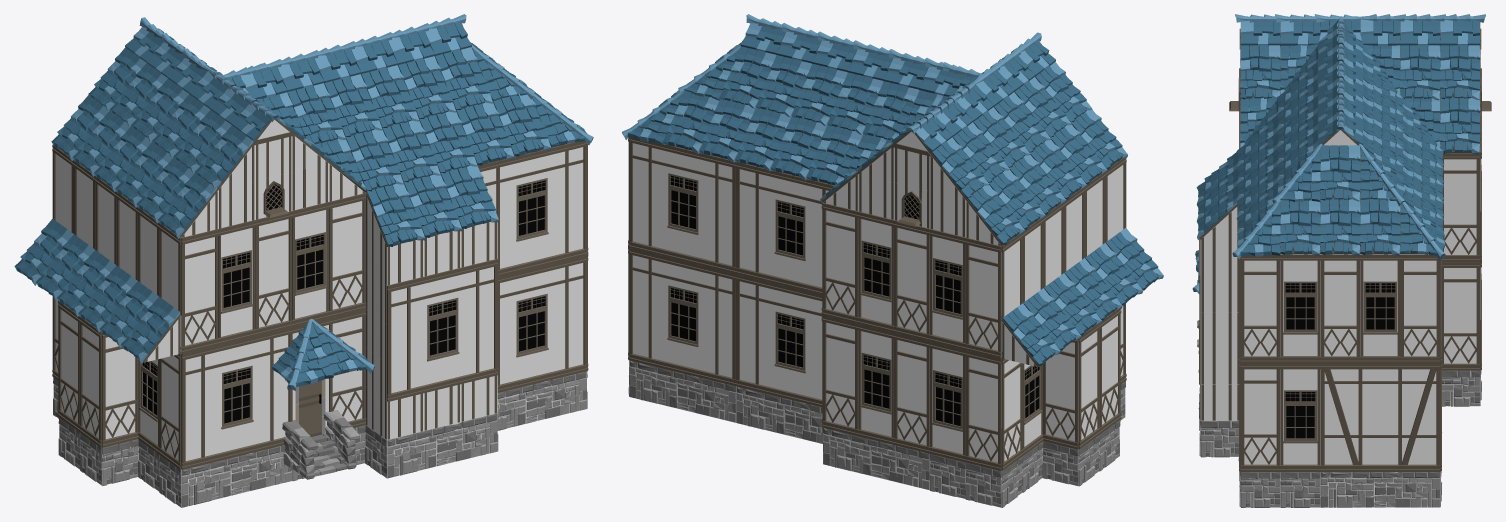
The model's file is House_19_full.glb.
The picture shows the model from 3 angles, left to right: view 1: azimuth 30°, elevation 25°; view 2: azimuth 150°, elevation 25°; view 3: azimuth 270°, elevation 25°; orthographic projection. The views are drawn at different scales.
Parts seen in each view (by area): view 1: WINDOW_03_9, WINDOW_03_2, WINDOW_03_8, WINDOW_03_7, WALL_01_23, WINDOW_04_13, WALL_01_22, FOUNDATION_02_31, WALL_01_21, WINDOW_04_12, FOUNDATION_02_25, WALL_01_4 (+89 smaller); view 2: WINDOW_03_4, WINDOW_03_5, WINDOW_03_6, WINDOW_03_3, WALL_01_14, WALL_01_12, WALL_01_9, WALL_01_11, WINDOW_04_8, WINDOW_04_7, WALL_01_10, WALL_01_13 (+76 smaller); view 3: WALL_02_2, WINDOW_04_9, WINDOW_04_10, WALL_01_18, WALL_01_19, WINDOW_04_11, WALL_01_20, WALL_01_17, FOUNDATION_02_27, WALL_01_15, WALL_01_16, ROOF_base_52 (+59 smaller).
Part boxes in pixels (left/top/right/bottom): WINDOW_03_9: left=386, top=258, right=498, bottom=401; WINDOW_03_2: left=181, top=327, right=292, bottom=469; WINDOW_03_8: left=478, top=141, right=587, bottom=276; WINDOW_03_7: left=497, top=255, right=587, bottom=392; WALL_01_23: left=181, top=229, right=219, bottom=354; WINDOW_04_13: left=218, top=220, right=255, bottom=345; WALL_01_22: left=255, top=211, right=292, bottom=335; FOUNDATION_02_31: left=387, top=413, right=497, bottom=478; WALL_01_21: left=329, top=193, right=366, bottom=317; WINDOW_04_12: left=292, top=202, right=329, bottom=327; FOUNDATION_02_25: left=181, top=445, right=291, bottom=507; WALL_01_4: left=102, top=333, right=138, bottom=447; WINDOW_03_4: left=628, top=248, right=735, bottom=385; WINDOW_03_5: left=628, top=137, right=735, bottom=273; WINDOW_03_6: left=735, top=161, right=834, bottom=294; WINDOW_03_3: left=735, top=274, right=822, bottom=407; WALL_01_14: left=965, top=237, right=1001, bottom=358; WALL_01_12: left=822, top=202, right=858, bottom=323; WALL_01_9: left=965, top=350, right=1001, bottom=470; WALL_01_11: left=822, top=315, right=858, bottom=435; WINDOW_04_8: left=929, top=229, right=965, bottom=349; WINDOW_04_7: left=858, top=211, right=893, bottom=332; WALL_01_10: left=893, top=333, right=929, bottom=453; WALL_01_13: left=893, top=220, right=929, bottom=341; WALL_02_2: left=1320, top=363, right=1440, bottom=471; WINDOW_04_9: left=1280, top=254, right=1320, bottom=363; WINDOW_04_10: left=1360, top=254, right=1400, bottom=363; WALL_01_18: left=1320, top=254, right=1360, bottom=363; WALL_01_19: left=1400, top=254, right=1440, bottom=363; WINDOW_04_11: left=1280, top=363, right=1320, bottom=471; WALL_01_20: left=1240, top=363, right=1280, bottom=471; WALL_01_17: left=1240, top=254, right=1280, bottom=363; FOUNDATION_02_27: left=1320, top=472, right=1440, bottom=507; WALL_01_15: left=1442, top=262, right=1480, bottom=370; WALL_01_16: left=1442, top=153, right=1480, bottom=261; ROOF_base_52: left=1320, top=198, right=1360, bottom=256.
Size of the model in its own units: 12.31 by 9.65 by 7.49.
1 material, 1 textured.
